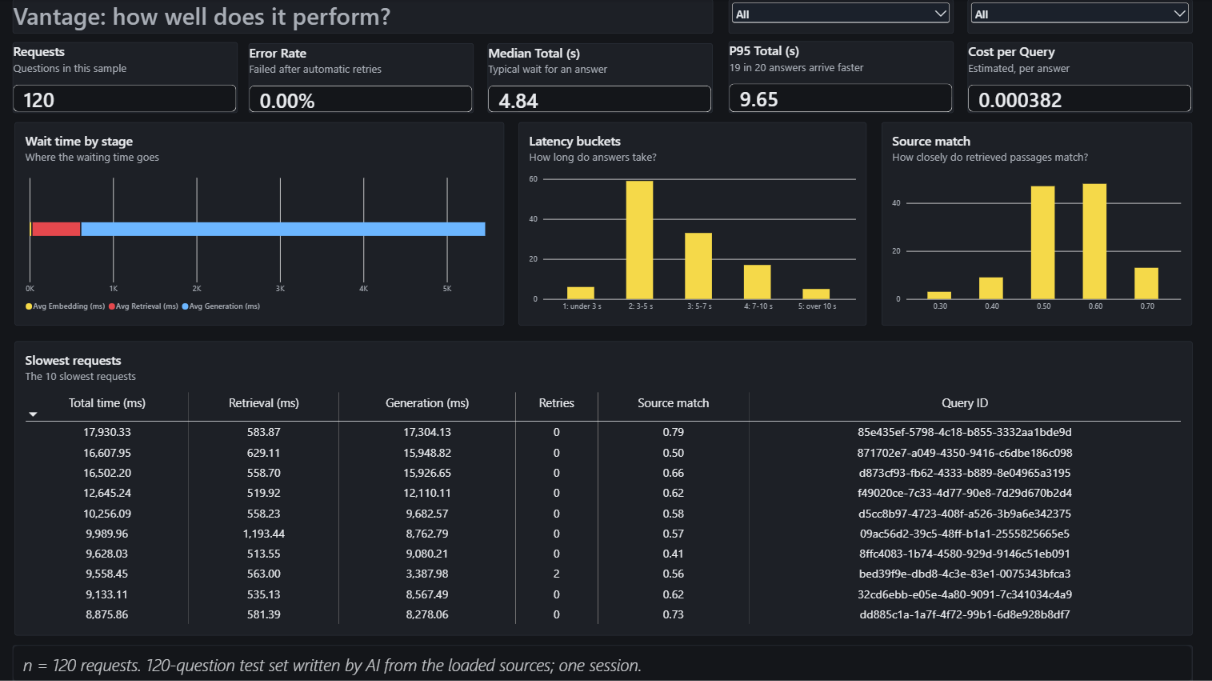

What the dashboard file says about the page in this screenshot:
{"tool":"powerbi","page":{"name":"Page 1","canvas":[1920,1080],"ordinal":0},"visuals":[{"type":"textbox","box":[23.7,0,1107.7,54.2],"z":0},{"type":"cardVisual","title":"Requests","fields":{"Data":["fact_telemetry.Requests"]},"box":[23.7,67.7,355.7,111.8],"z":1000},{"type":"cardVisual","title":"Error Rate","fields":{"Data":["fact_telemetry.Error Rate"]},"box":[396.3,69.4,355.7,110.1],"z":2000},{"type":"cardVisual","title":"Median Total (s)","fields":{"Data":["fact_telemetry.Median Total (s)"]},"box":[775.7,69.4,355.7,110.1],"z":3000},{"type":"cardVisual","title":"P95 Total (s)","fields":{"Data":["fact_telemetry.P95 Total (s)"]},"box":[1156.8,66.1,355.7,113.5],"z":4000},{"type":"cardVisual","title":"Cost per Query","fields":{"Data":["fact_telemetry.Cost per Query"]},"box":[1534.5,67.7,355.7,111.8],"z":5000},{"type":"barChart","title":"Wait time by stage","fields":{"Y":["fact_telemetry.Avg Embedding (ms)","fact_telemetry.Avg Retrieval (ms)","fact_telemetry.Avg Generation (ms)"]},"box":[27.1,194.8,774,321.8],"z":6000},{"type":"clusteredColumnChart","title":"Latency buckets","fields":{"Category":["fact_telemetry.Latency Bucket"],"Y":["fact_telemetry.Requests"]},"box":[824.8,194.8,550.5,321.8],"z":7000},{"type":"clusteredColumnChart","title":"Source match","fields":{"Category":["fact_telemetry.Similarity Band"],"Y":["fact_telemetry.Requests"]},"box":[1399,194.8,491.2,321.8],"z":8000},{"type":"tableEx","title":"Slowest requests","fields":{"Values":["Sum(fact_telemetry.total_latency_ms)","Sum(fact_telemetry.retrieval_latency_ms)","Sum(fact_telemetry.generation_latency_ms)","Sum(fact_telemetry.generation_retries)","Sum(fact_telemetry.top_similarity_score)","fact_telemetry.query_id"]},"box":[27.1,540.3,1863.1,465.8],"z":9000},{"type":"slicer","title":"Confidence","fields":{"Values":["fact_telemetry.confidence_category"]},"box":[1156.8,0,355.7,54.2],"z":10000},{"type":"slicer","title":"Status","fields":{"Values":["fact_telemetry.request_status"]},"box":[1534.5,0,355.7,54.2],"z":11000},{"type":"cardVisual","title":"Sample Note","fields":{"Data":["fact_telemetry.Sample Note"]},"box":[23.7,1021.3,1866.5,59.3],"z":12000}]}

Visuals, with their boxes in screenshot pixels (x1, y1, x2, y2), scaled from the page's 1920x1080 canvas onto the 1212x681 screenshot:
textbox: rect(15, 0, 714, 34)
"Requests" cardVisual: rect(15, 43, 239, 113)
"Error Rate" cardVisual: rect(250, 44, 475, 113)
"Median Total (s)" cardVisual: rect(490, 44, 714, 113)
"P95 Total (s)" cardVisual: rect(730, 42, 955, 113)
"Cost per Query" cardVisual: rect(969, 43, 1193, 113)
"Wait time by stage" barChart: rect(17, 123, 506, 326)
"Latency buckets" clusteredColumnChart: rect(521, 123, 868, 326)
"Source match" clusteredColumnChart: rect(883, 123, 1193, 326)
"Slowest requests" tableEx: rect(17, 341, 1193, 634)
"Confidence" slicer: rect(730, 0, 955, 34)
"Status" slicer: rect(969, 0, 1193, 34)
"Sample Note" cardVisual: rect(15, 644, 1193, 680)
